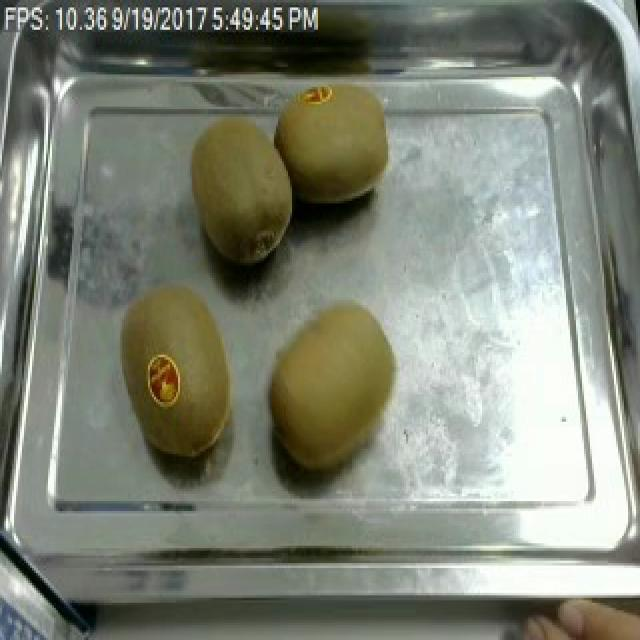Fruit: (264, 295, 412, 479), (106, 278, 242, 464), (182, 107, 304, 275), (268, 72, 400, 211)
